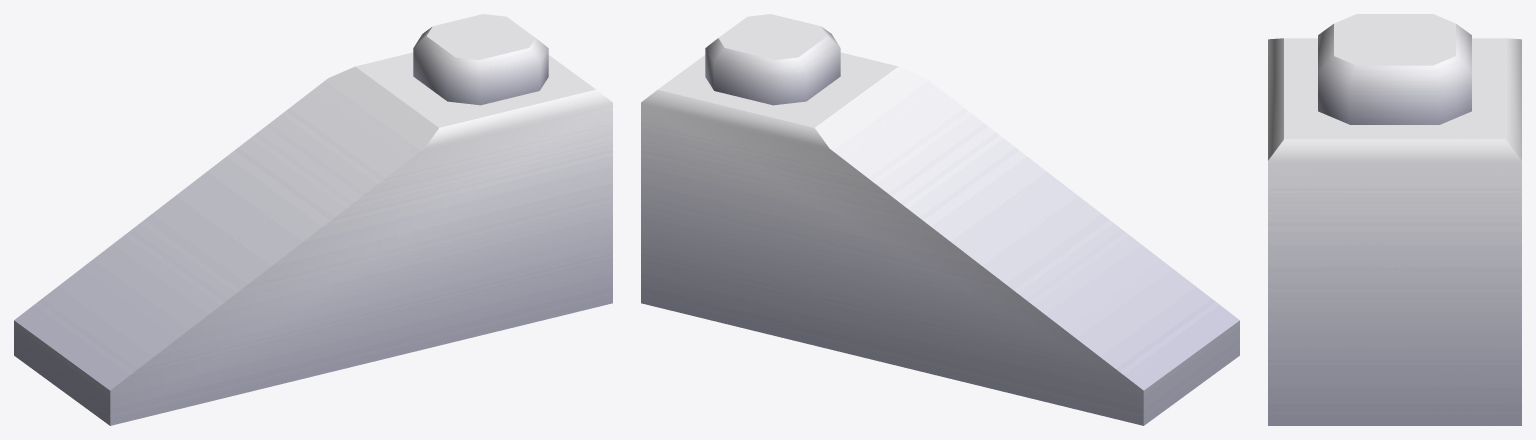
The model's file is brick-kit--bevel-hq-brick-slope-3x1.glb.
The picture shows the model from 3 angles, left to right: view 1: azimuth 30°, elevation 25°; view 2: azimuth 150°, elevation 25°; view 3: azimuth 270°, elevation 25°; orthographic projection. The views are drawn at different scales.
Parts seen in each view (by area): view 1: bevel-hq-brick-slope-3x1; view 2: bevel-hq-brick-slope-3x1; view 3: bevel-hq-brick-slope-3x1.
Part boxes in pixels (x1,y1,x2,y2): bevel-hq-brick-slope-3x1: (14, 14, 612, 425); bevel-hq-brick-slope-3x1: (641, 14, 1239, 425); bevel-hq-brick-slope-3x1: (1268, 14, 1521, 425).
Bounding box in the file's own units: 0.2385 × 0.114 × 0.079.
Materials: 1 (1 with a texture image).
